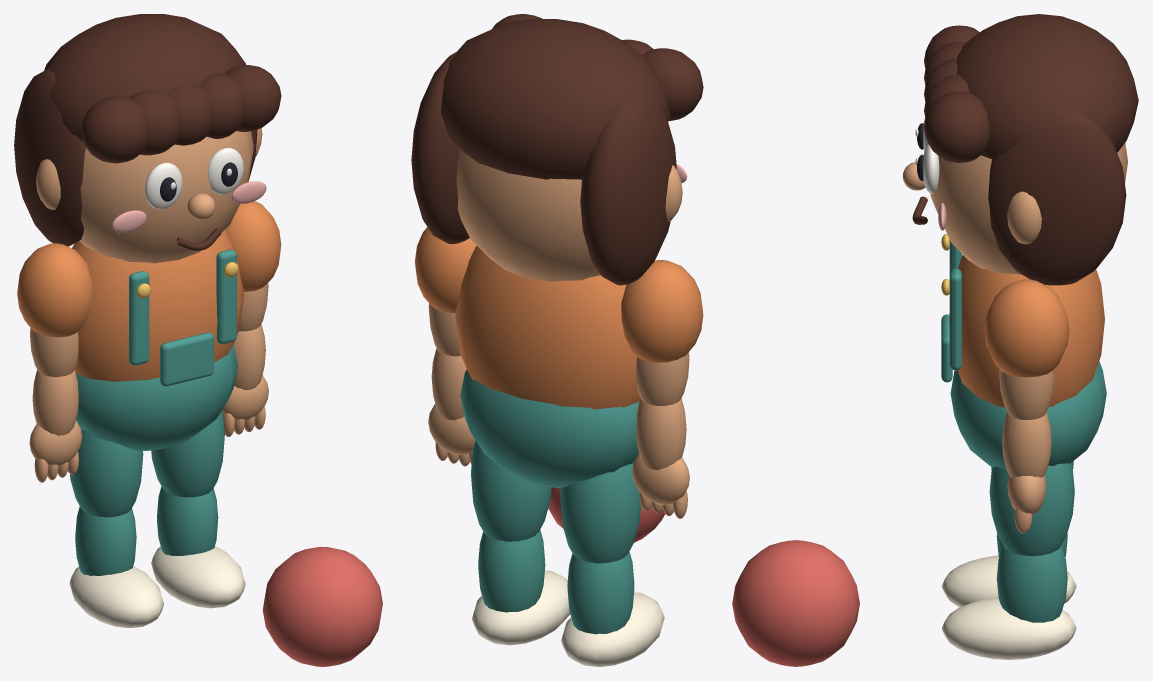
Rendered from ava-kick.glb.
The picture shows the model from 3 angles, left to right: view 1: azimuth 30°, elevation 25°; view 2: azimuth 150°, elevation 25°; view 3: azimuth 270°, elevation 25°; orthographic projection. The views are drawn at different scales.
Parts seen in each view (by area): view 1: soft shirt, hair cap, clay head, soft ball, overalls, bob hair, shirt sleeve, trouser leg, little shoe.001, little shoe, trouser leg.001, fringe (+22 smaller); view 2: hair cap, soft shirt, bob hair, overalls, clay head, shirt sleeve, trouser leg, bob hair.001, trouser leg.001, lower leg, lower leg.001, little shoe (+11 smaller); view 3: bob hair.001, hair cap, soft ball, soft shirt, shirt sleeve.001, overalls, clay head, little shoe.001, trouser leg.001, lower leg.001, fringe.004, forearm.001 (+10 smaller).
Boxes of the visible parts, bbox=[...] form: soft shirt: bbox=[72, 230, 244, 381]; hair cap: bbox=[44, 14, 245, 141]; clay head: bbox=[79, 131, 253, 263]; soft ball: bbox=[262, 546, 382, 666]; overalls: bbox=[76, 344, 237, 450]; bob hair: bbox=[14, 68, 86, 246]; shirt sleeve: bbox=[17, 243, 92, 337]; trouser leg: bbox=[70, 429, 143, 517]; little shoe.001: bbox=[151, 546, 245, 608]; little shoe: bbox=[69, 566, 163, 627]; trouser leg.001: bbox=[151, 410, 224, 497]; fringe: bbox=[81, 96, 147, 163]; hair cap: bbox=[441, 19, 670, 179]; soft shirt: bbox=[455, 245, 640, 409]; bob hair: bbox=[580, 97, 676, 285]; overalls: bbox=[460, 369, 639, 487]; clay head: bbox=[456, 149, 600, 281]; shirt sleeve: bbox=[621, 260, 703, 362]; trouser leg: bbox=[560, 460, 641, 563]; bob hair.001: bbox=[411, 52, 469, 243]; trouser leg.001: bbox=[471, 440, 551, 541]; lower leg: bbox=[567, 551, 634, 634]; lower leg.001: bbox=[478, 530, 545, 612]; little shoe: bbox=[561, 592, 664, 666]; bob hair.001: bbox=[988, 108, 1126, 285]; hair cap: bbox=[956, 14, 1138, 159]; soft ball: bbox=[732, 540, 859, 666]; soft shirt: bbox=[949, 255, 1104, 407]; shirt sleeve.001: bbox=[984, 279, 1069, 377]; overalls: bbox=[950, 361, 1106, 468]; clay head: bbox=[930, 143, 1127, 274]; little shoe.001: bbox=[941, 597, 1076, 659]; trouser leg.001: bbox=[989, 463, 1074, 556]; lower leg.001: bbox=[996, 545, 1067, 622]; fringe.004: bbox=[924, 91, 989, 162]; forearm.001: bbox=[1002, 412, 1051, 477].
Bounding box in the file's own units: 0.87 × 1.87 × 1.14.
